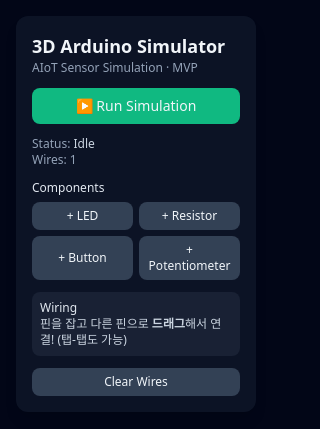
Test: <Toolbar /> › clears all wires via the Clear Wires button
Expected: the text "Wires: 1" is shown, left=32, top=151, right=77, bottom=168
Click the button "Clear Wires" at (136, 382), box left=32, top=368, right=240, bottom=396
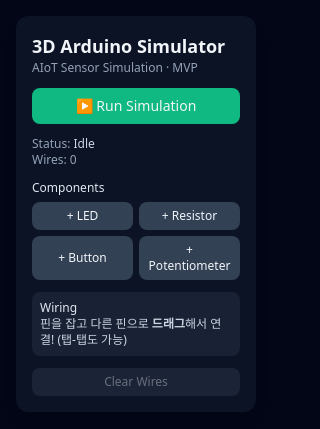
Expected: the text "Wires: 0" is shown, left=32, top=151, right=77, bottom=168
